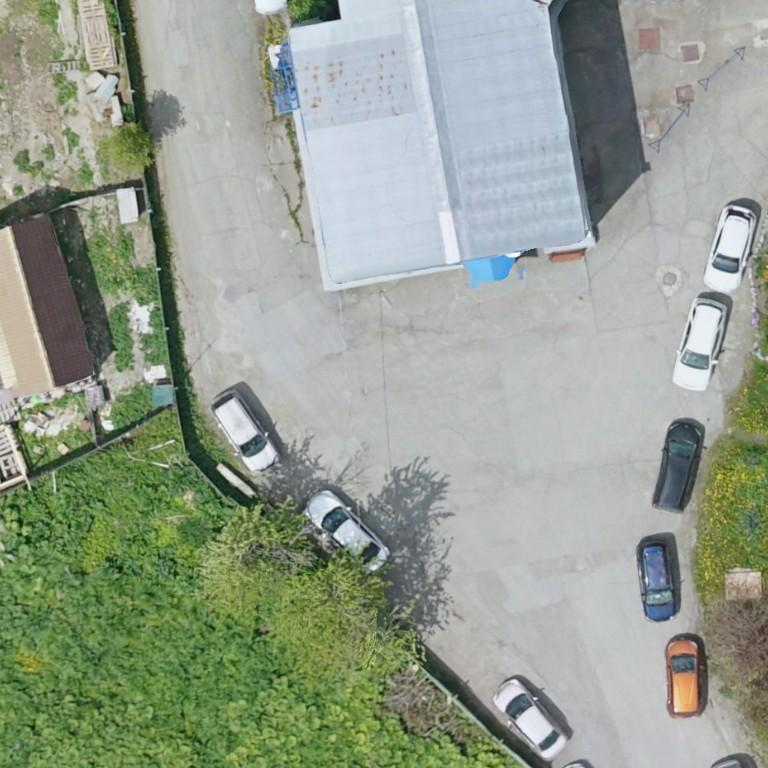hogweed: (0, 466, 279, 756), (132, 466, 234, 523), (112, 388, 151, 435), (109, 304, 131, 368), (144, 309, 165, 362), (118, 234, 133, 255)
